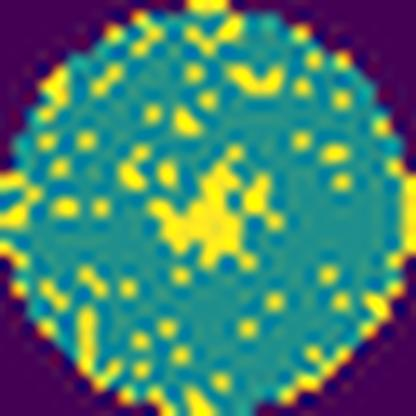Center: (147, 140, 283, 276)
